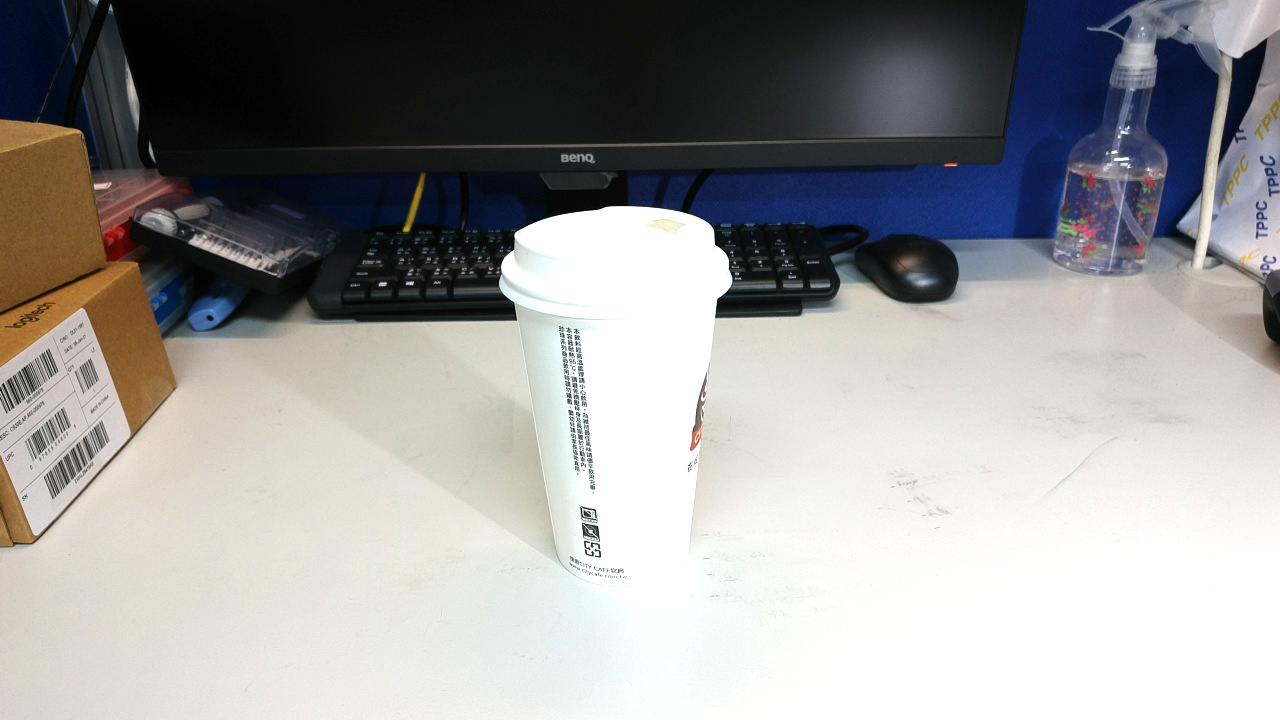columnar: (530, 279, 738, 524)
grip: (483, 363, 573, 487)
